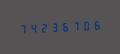four: (28, 21, 38, 35)
seven: (17, 22, 27, 35), (72, 19, 82, 32)
six: (61, 19, 71, 33), (94, 18, 104, 31)
three: (50, 20, 60, 33)
two: (39, 21, 49, 34)
zero: (83, 18, 93, 32)
